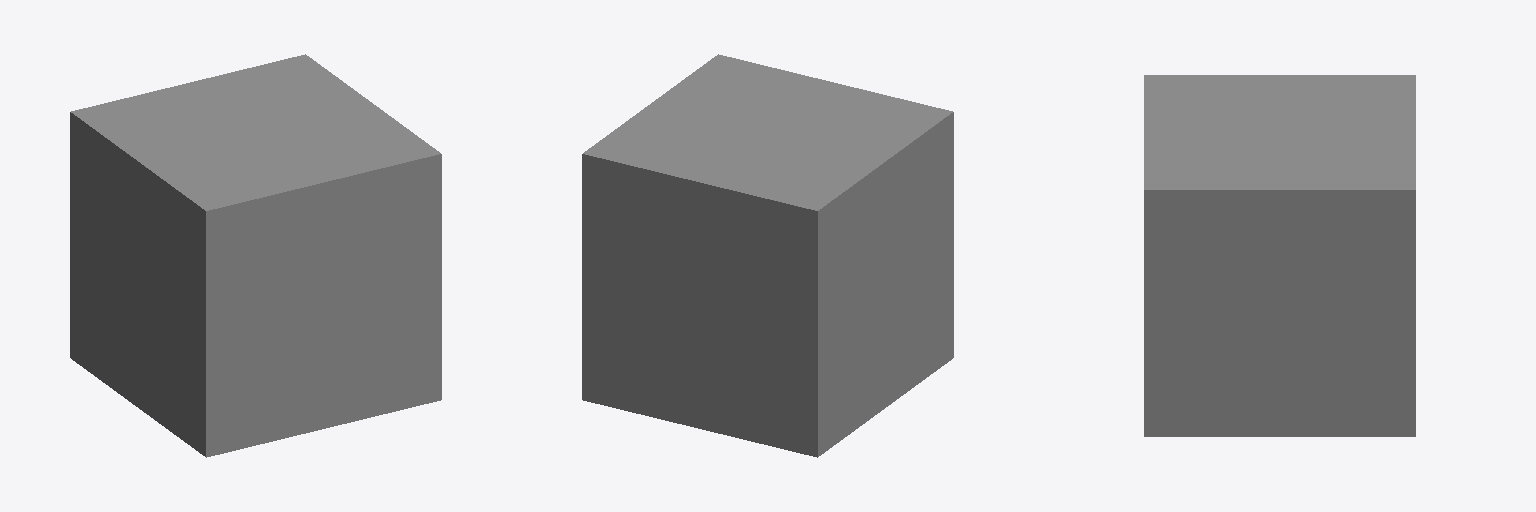
The picture shows the model from 3 angles: view 1: azimuth 30°, elevation 25°; view 2: azimuth 150°, elevation 25°; view 3: azimuth 270°, elevation 25°; orthographic projection.
Parts seen in each view (by area): view 1: Cube; view 2: Cube; view 3: Cube.
Part boxes in pixels (x1,y1,x2,y2): Cube: (70, 54, 441, 457); Cube: (582, 54, 953, 457); Cube: (1144, 75, 1415, 436).
Size of the model in its own units: 2 by 2 by 2.
Materials: 1 (1 with a texture image).